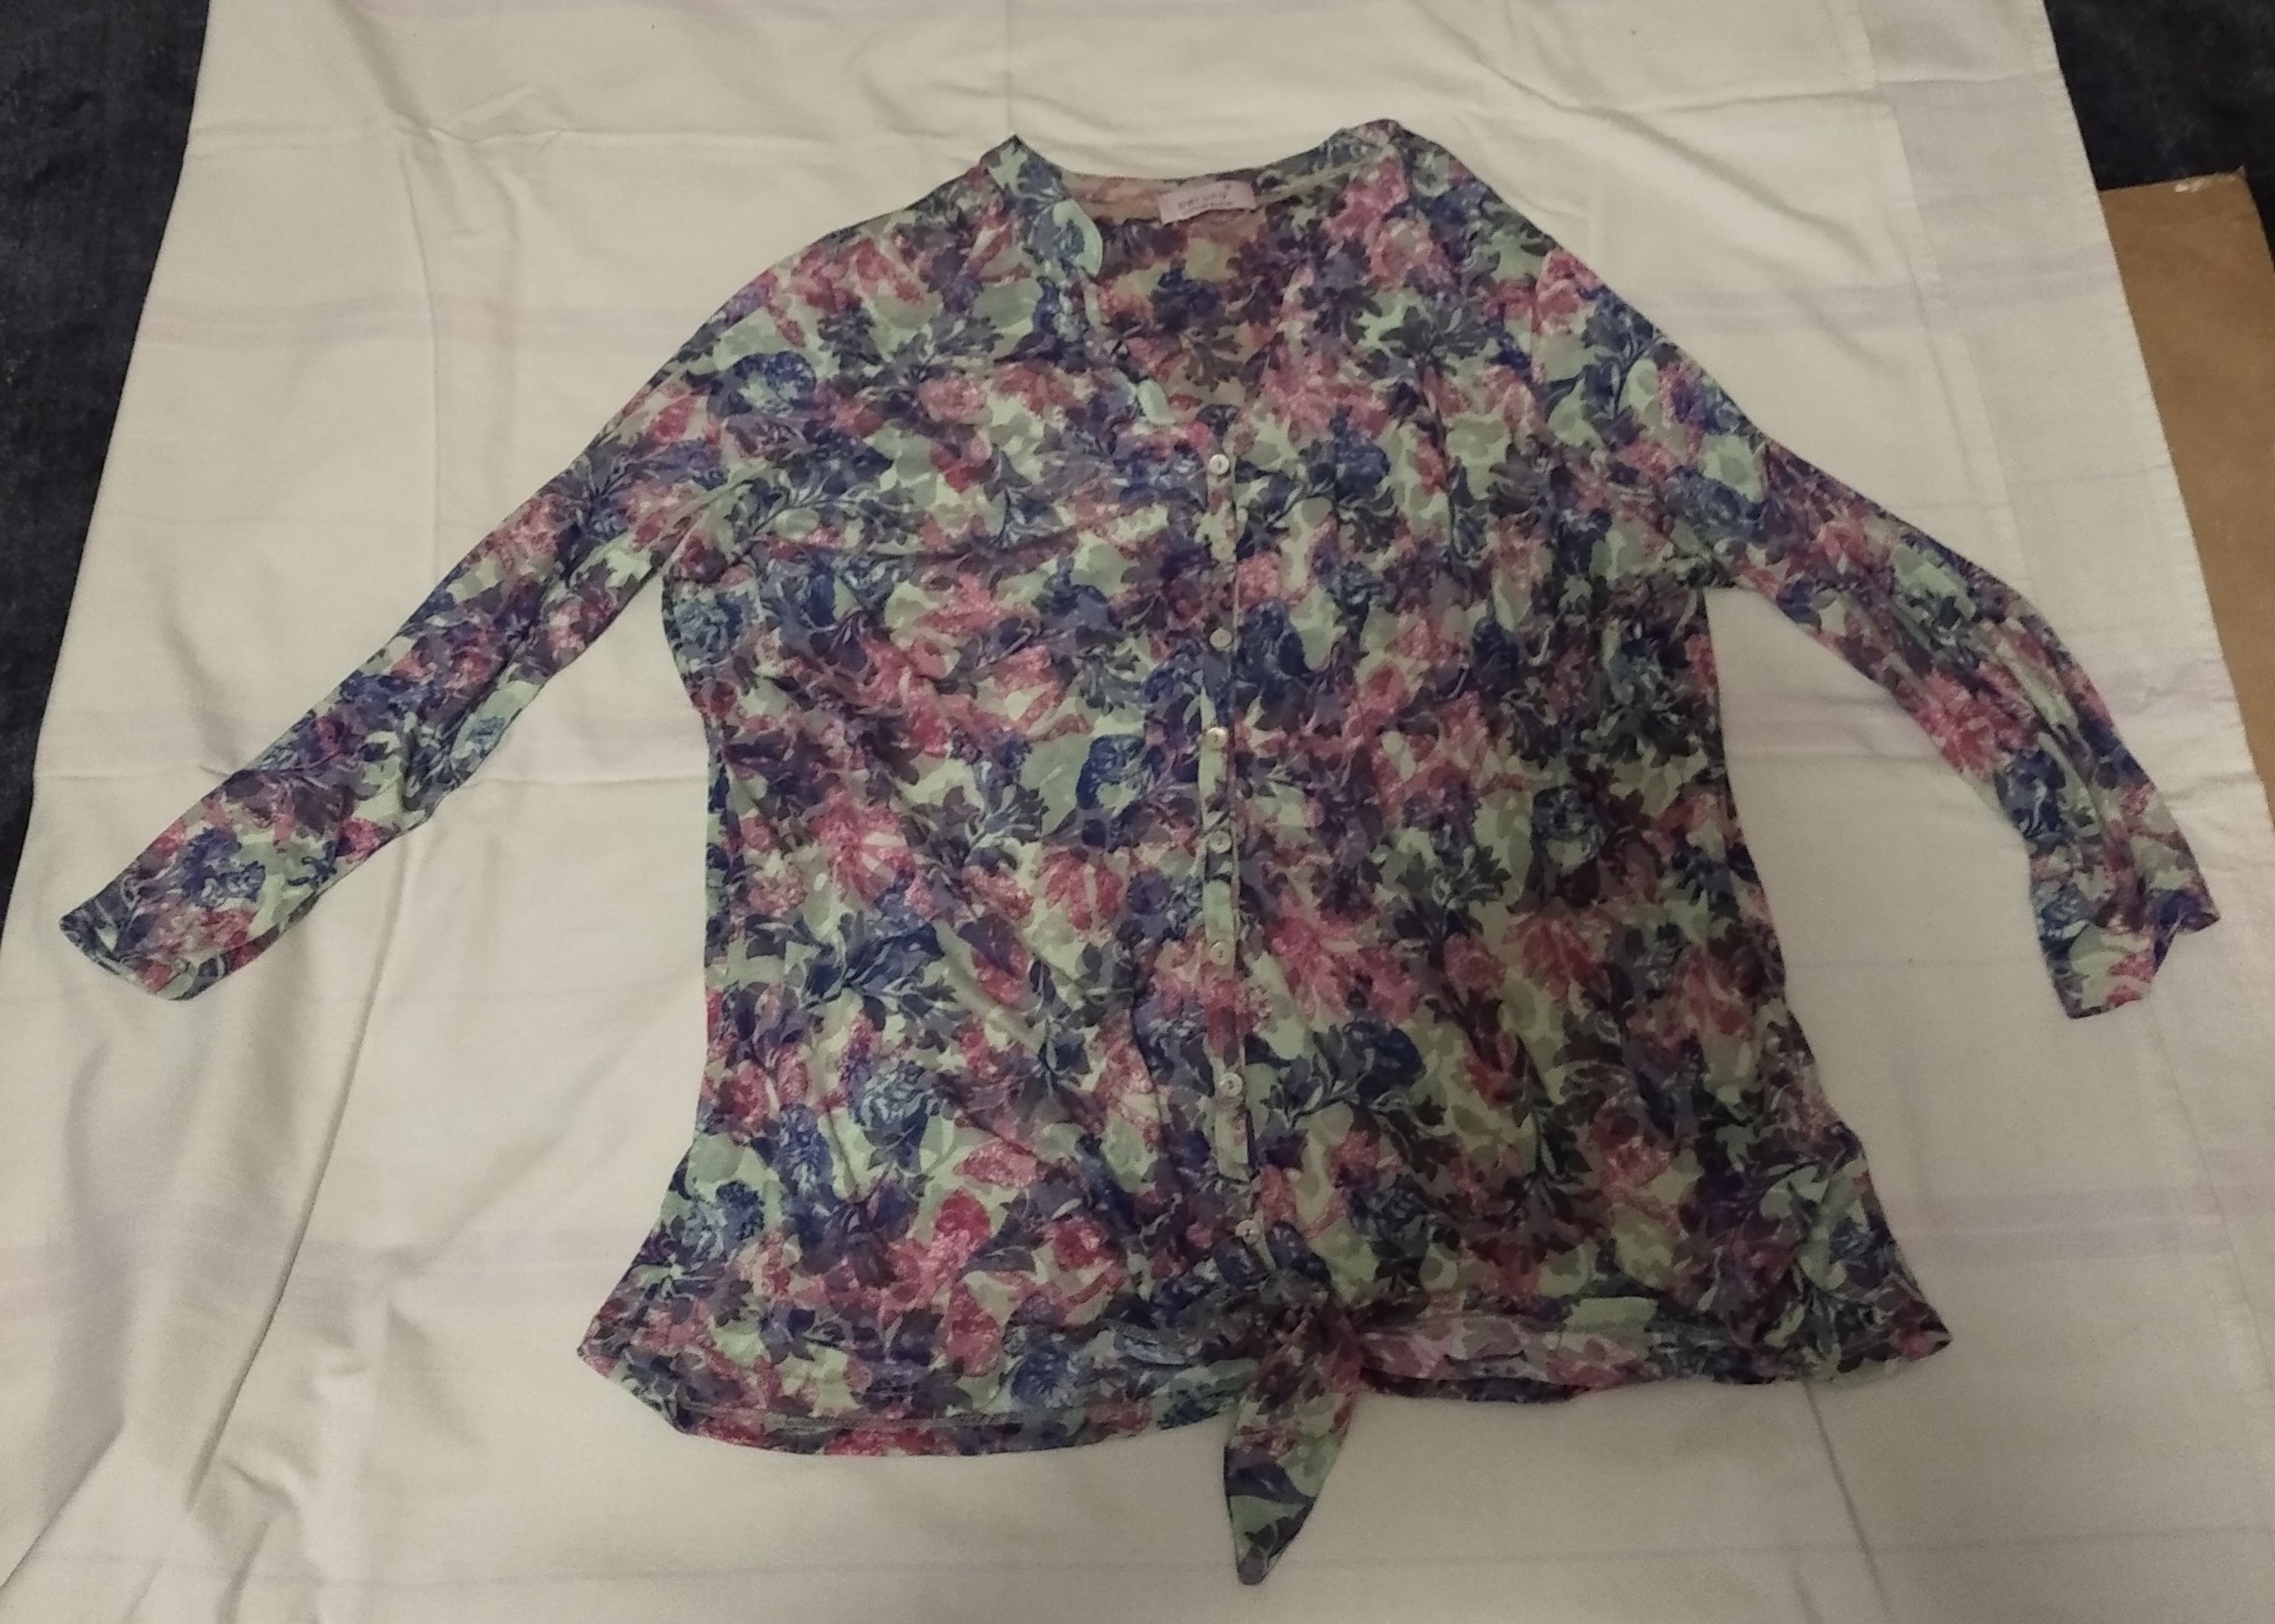clothes: (69, 112, 2233, 1415)
